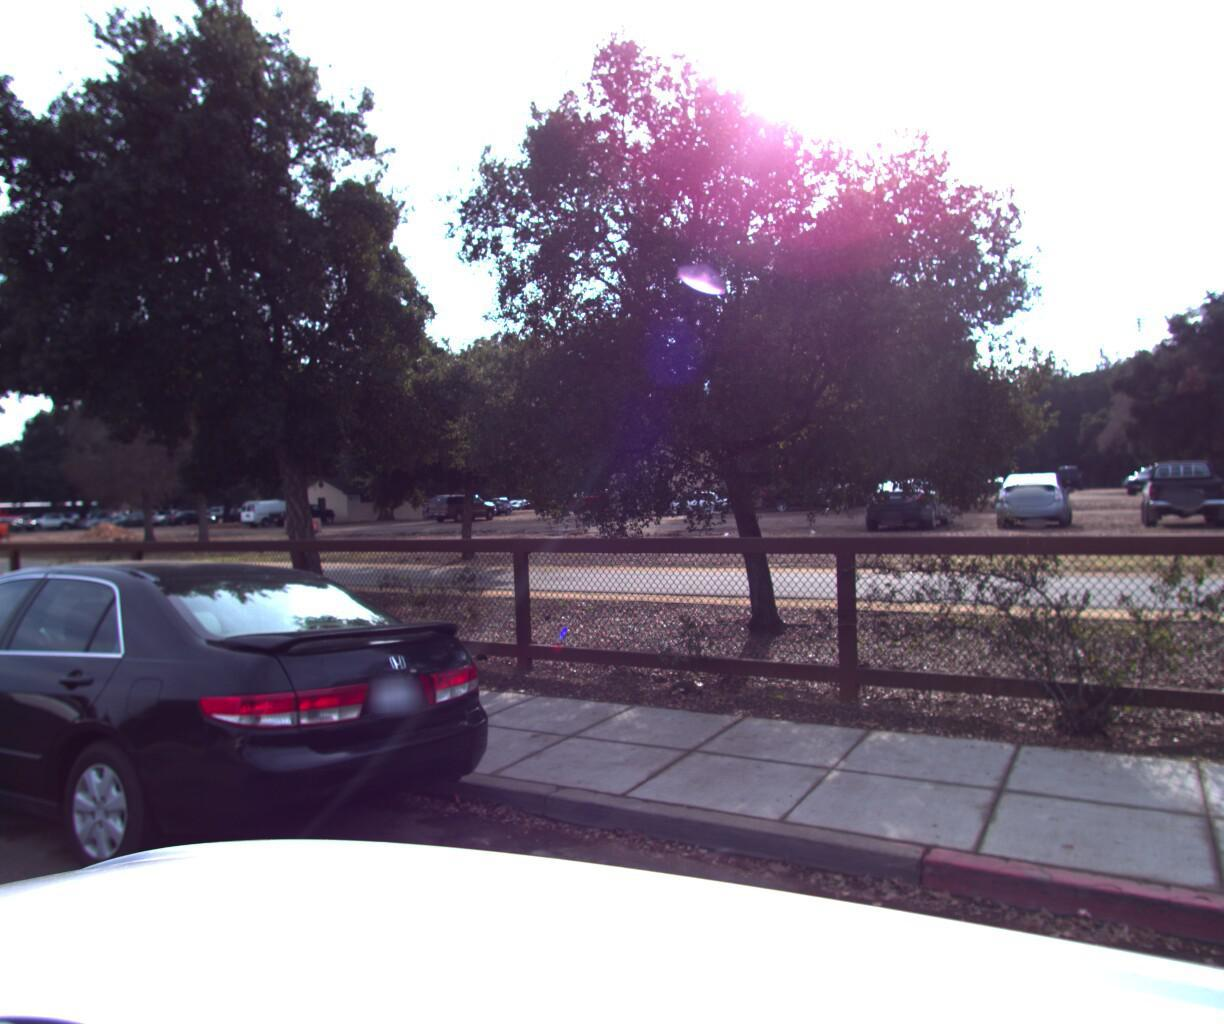car: (0, 545, 546, 954)
